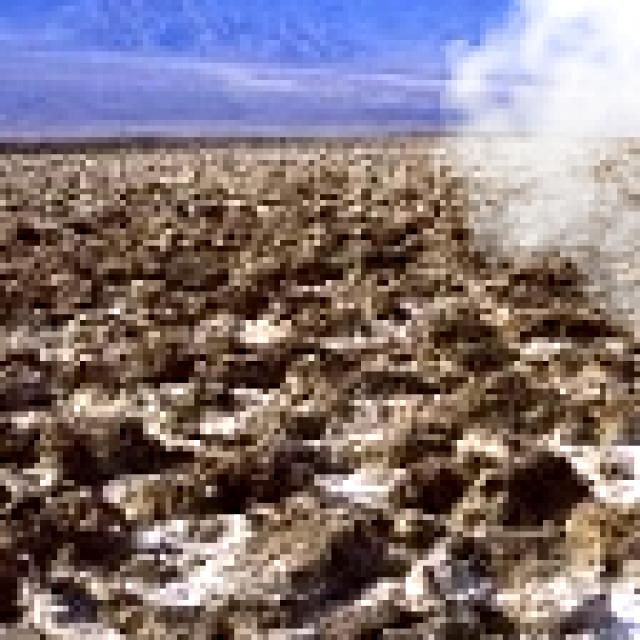smoke: (411, 0, 640, 343)
